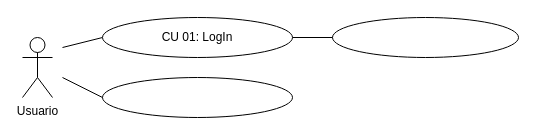
The diagram is 536 pixels wide and 136 high, and some of its shapes have lost their labels. The shapes that lost their labels are listed below. From the top down, each one's centre as x and y in pixels, then its label:
the point at 425,37: CU 03: Registrar Usuario
the point at 197,97: CU 02: LogOut
